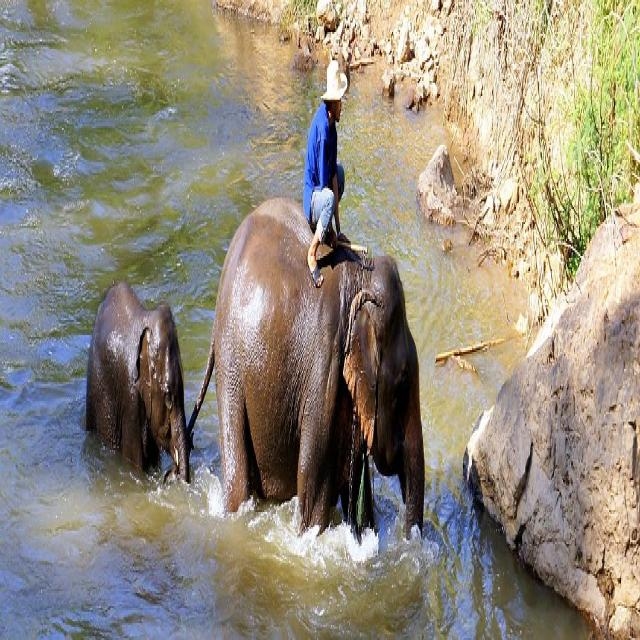Elephant: (208, 188, 442, 640), (72, 237, 208, 560)
